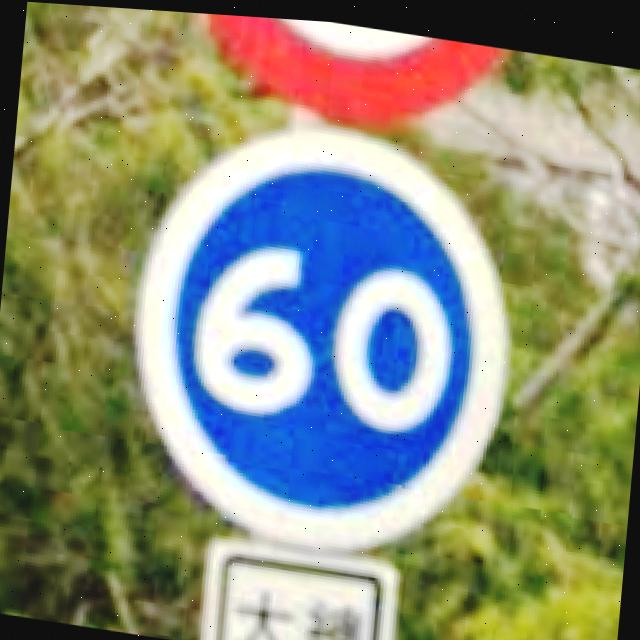min60: (113, 89, 528, 568)
